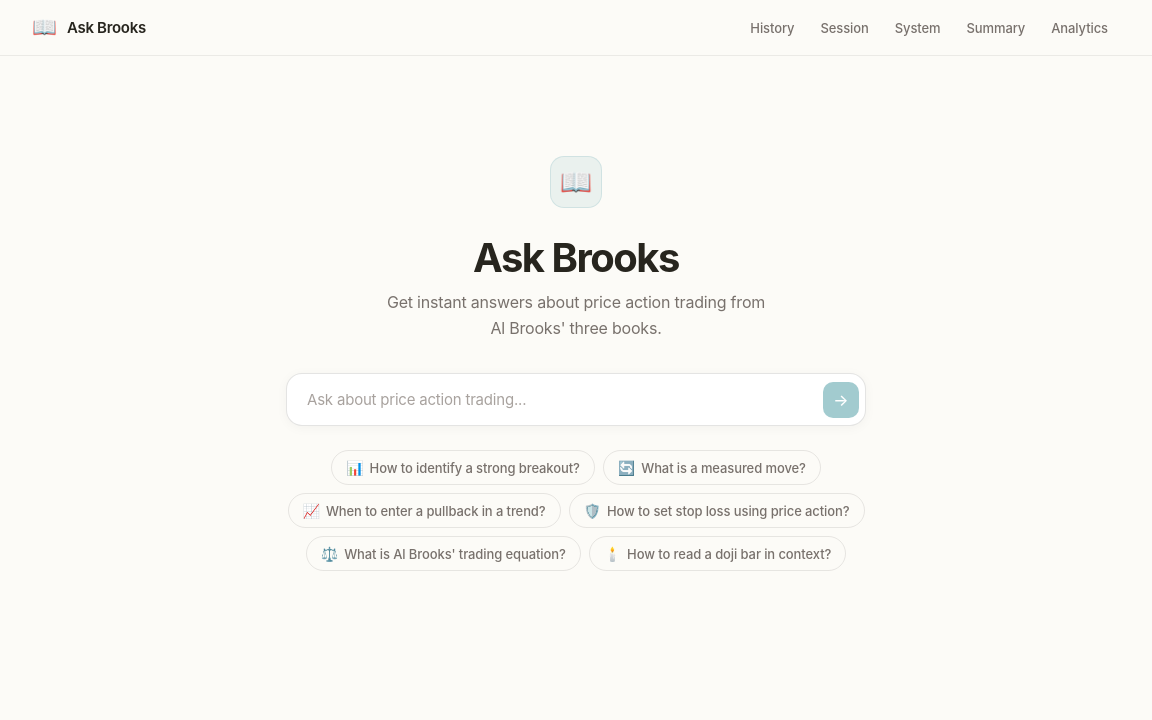
AskBrooksPage › submits a question and shows user message
In the field with placeholder "Ask about price action trading...": (565, 400) left=307, top=380, right=823, bottom=419, type "What is a trend bar?"
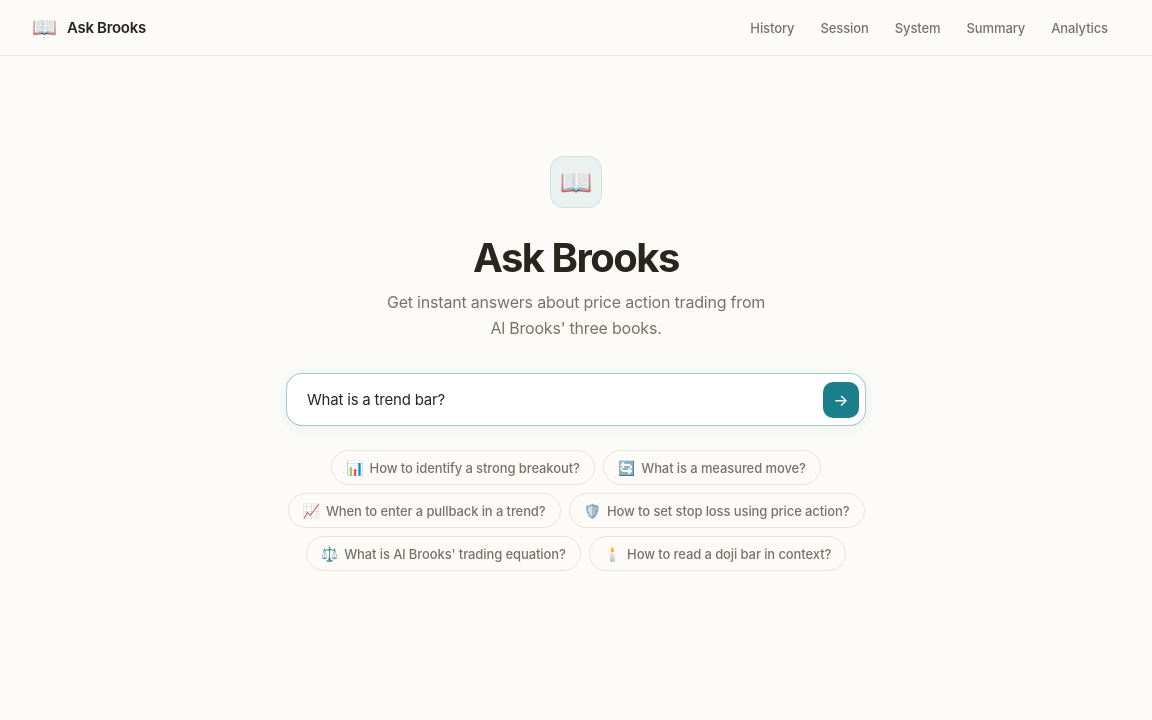
Click the button "→": (841, 400) left=823, top=382, right=859, bottom=418
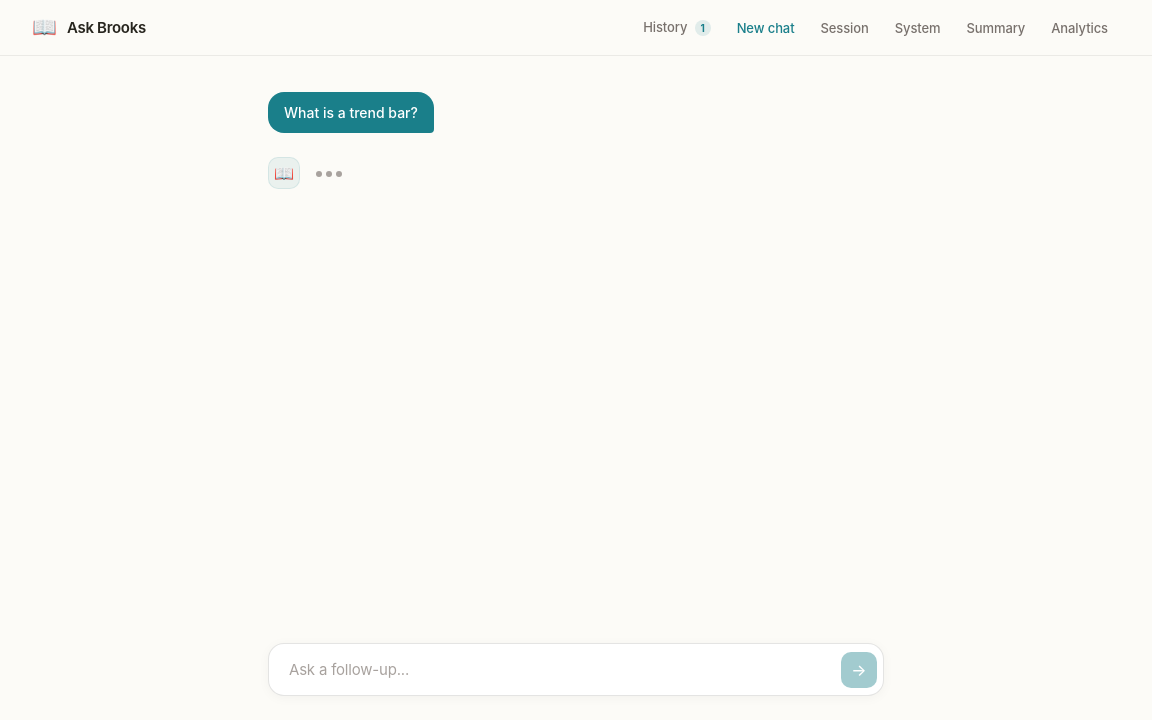
Expected: the text "What is a trend bar?" is shown, left=268, top=92, right=434, bottom=133
